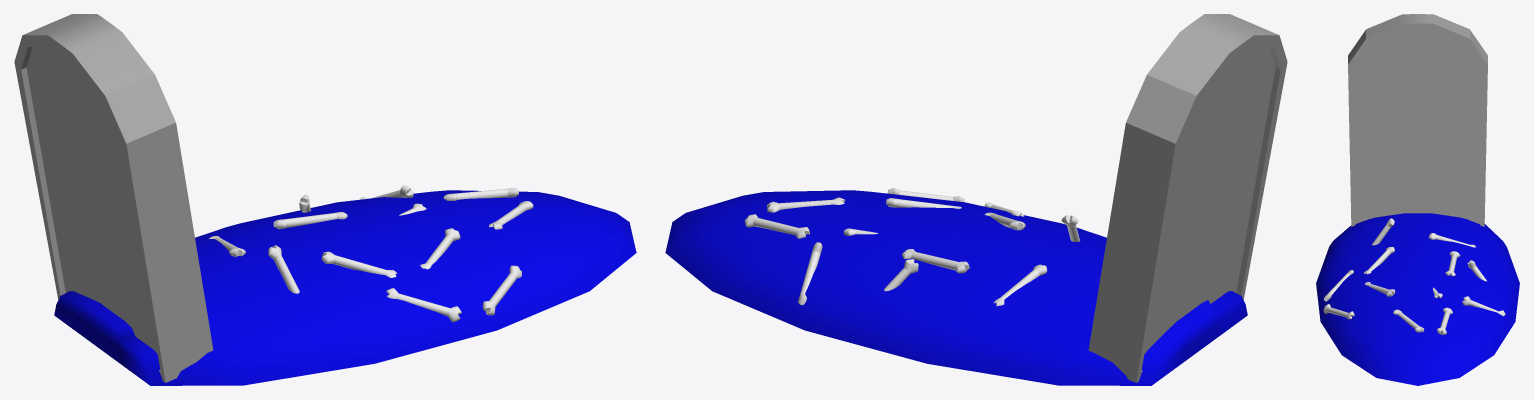
Rendered from spike-1.fbx.
The picture shows the model from 3 angles, left to right: view 1: azimuth 30°, elevation 25°; view 2: azimuth 150°, elevation 25°; view 3: azimuth 270°, elevation 25°; orthographic projection. The views are drawn at different scales.
Parts seen in each view (by area): view 1: spike_tower1; view 2: spike_tower1; view 3: spike_tower1.
Boxes of the visible parts, <box> form: spike_tower1: <box>14,14,636,385</box>; spike_tower1: <box>665,14,1287,385</box>; spike_tower1: <box>1316,14,1519,385</box>.
Bounding box in the file's own units: 14.47 × 7.92 × 7.18.
